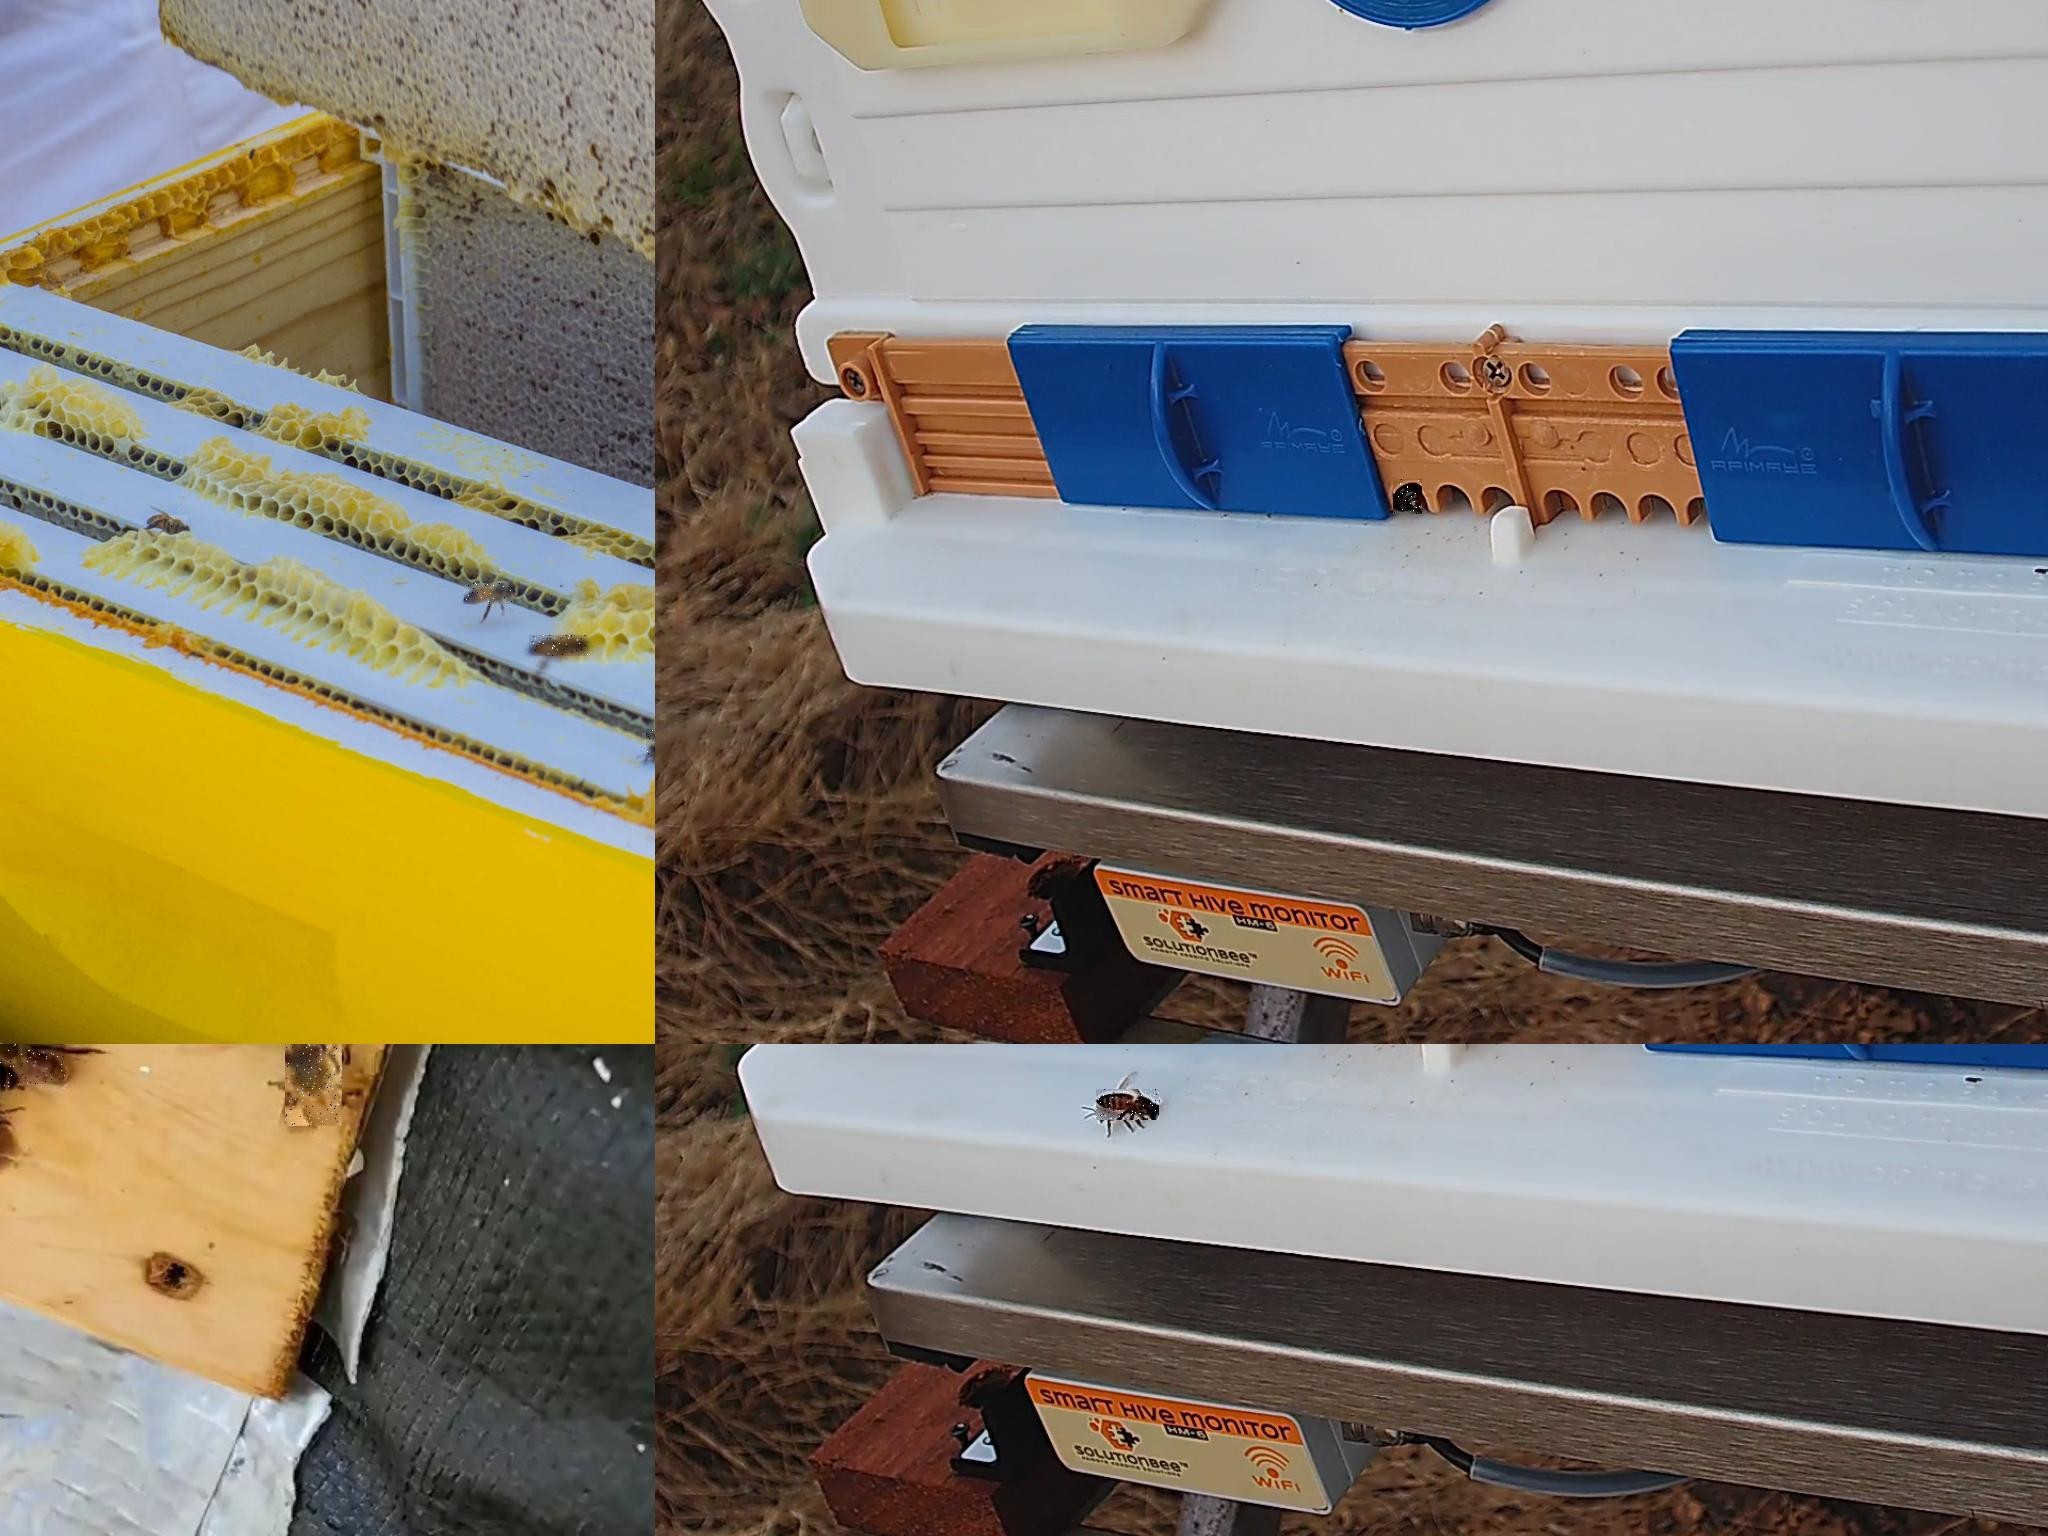bee: (285, 1044, 343, 1128), (0, 1044, 68, 1086), (1097, 1089, 1159, 1121), (529, 636, 589, 657), (464, 582, 514, 605), (1393, 479, 1422, 515), (148, 515, 189, 537)
